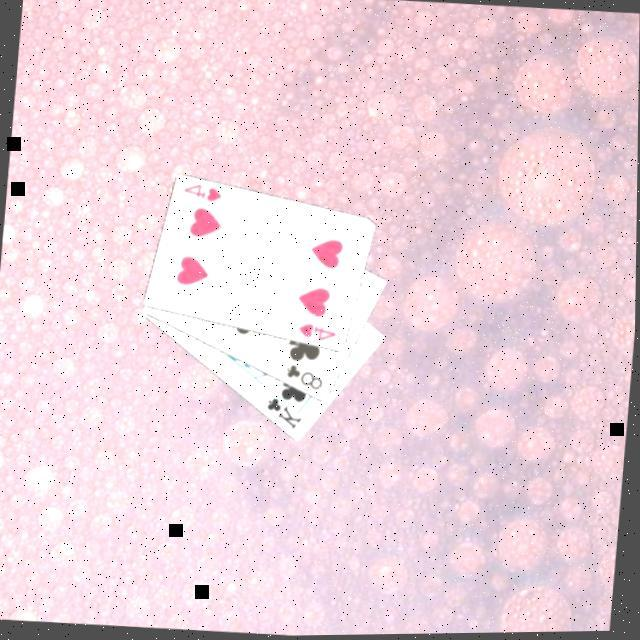4H: (296, 318, 341, 344), (181, 178, 226, 204)
8C: (283, 359, 329, 393)
KC: (263, 384, 309, 432)
